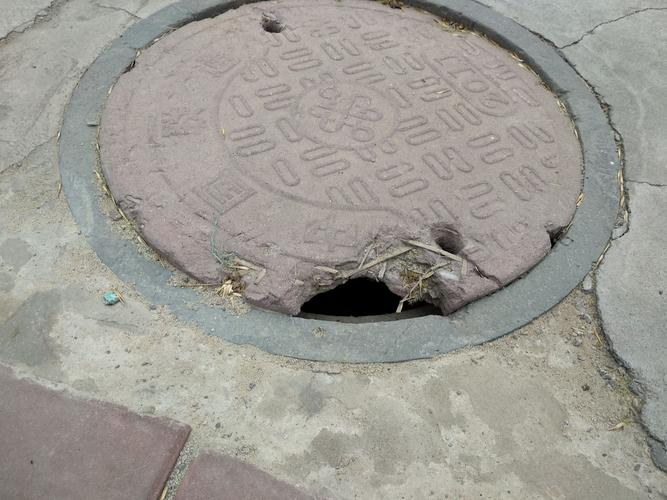broke: (68, 3, 628, 358)
